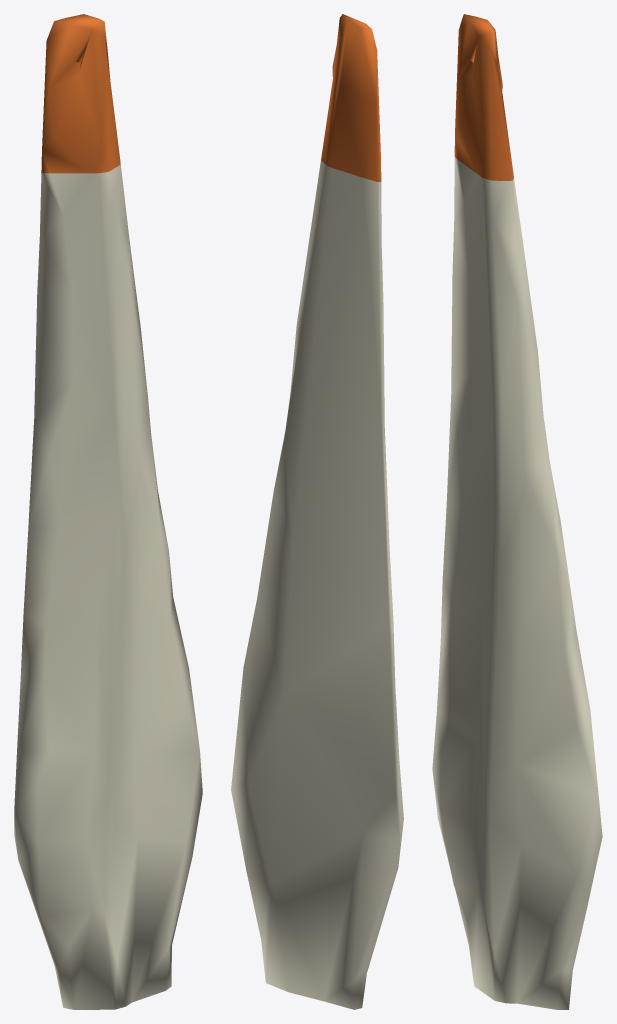
File: turbine_blade.glb
3 renders of one model, left to right at view 1: azimuth 30°, elevation 25°; view 2: azimuth 150°, elevation 25°; view 3: azimuth 330°, elevation 25°, orthographic. The views are drawn at different scales.
Visible parts, largest first — view 1: TurbineBlade; view 2: TurbineBlade; view 3: TurbineBlade.
Part boxes in pixels (x1,y1,x2,y2): TurbineBlade: (14,14,202,1009); TurbineBlade: (231,14,403,1009); TurbineBlade: (432,14,602,1009).
Size of the model in its own units: 0.3352 by 1.75 by 0.0735.
Materials: 1 (1 with a texture image).
